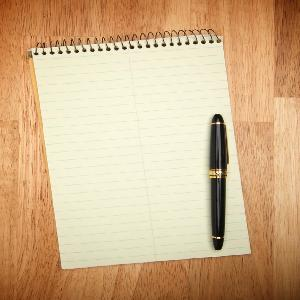pen: (205, 113, 231, 252)
